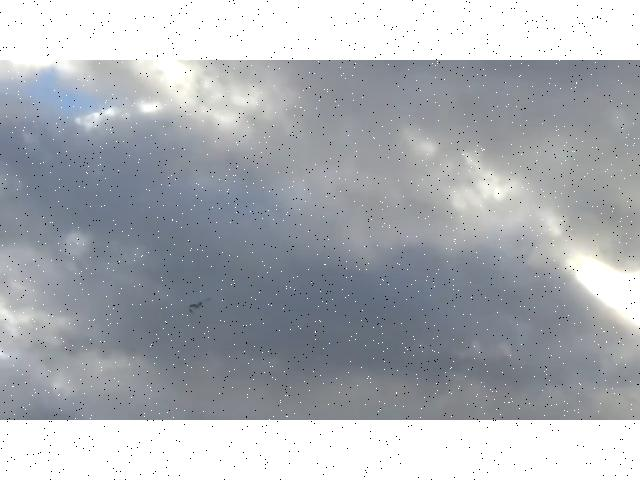Anti-Drone: (186, 295, 212, 313)
